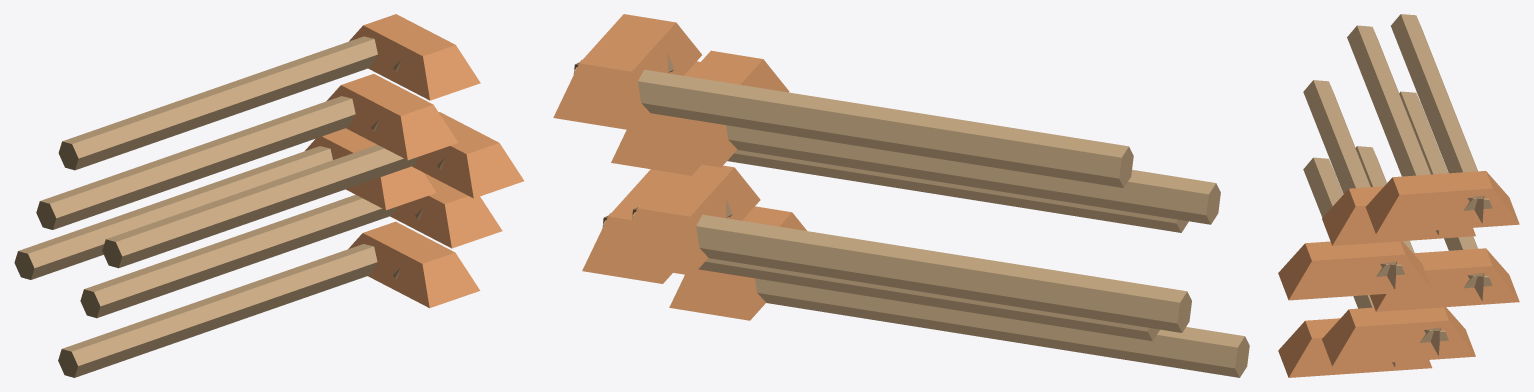
The model's file is item_082_copper_axe_l.glb.
3 renders of one model, left to right at view 1: azimuth 30°, elevation 25°; view 2: azimuth 150°, elevation 25°; view 3: azimuth 270°, elevation 25°, orthographic. The views are drawn at different scales.
Visible parts, largest first — view 1: item_082_copper_axe_l; view 2: item_082_copper_axe_l; view 3: item_082_copper_axe_l.
Boxes of the visible parts, x1=… form: item_082_copper_axe_l: x1=14, y1=14, x2=523, y2=377; item_082_copper_axe_l: x1=553, y1=14, x2=1249, y2=377; item_082_copper_axe_l: x1=1278, y1=14, x2=1519, y2=377.
Bounding box in the file's own units: 0.7039 × 0.3094 × 0.3318.
